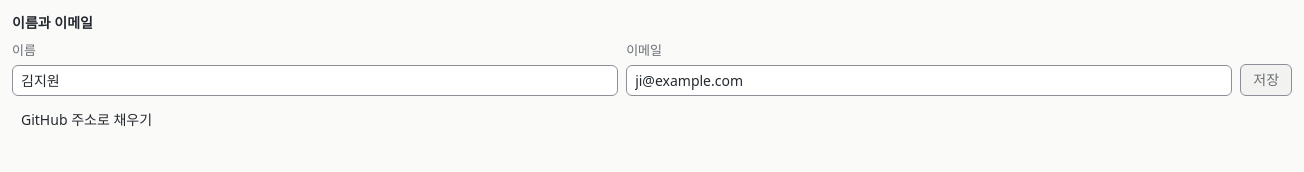
Test: 이름과 이메일(D-125) › GitHub 주소로 채우기는 이메일 칸에 채우기만 하고 저장하지 않는다(D-126)
Click the button "GitHub 주소로 채우기" at (87, 120), box 12,104 -> 161,136
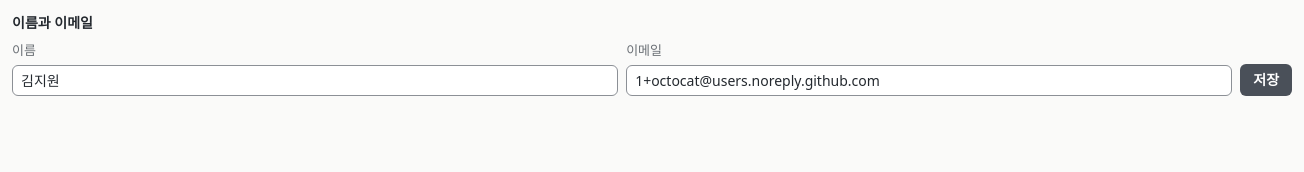
Expected: the field labelled "이메일" holds "1+octocat@users.noreply.github.com", 626,64 -> 1232,96
Expected: the button "저장" is enabled, 1240,64 -> 1292,96
Expected: the button "GitHub 주소로 채우기" is gone
